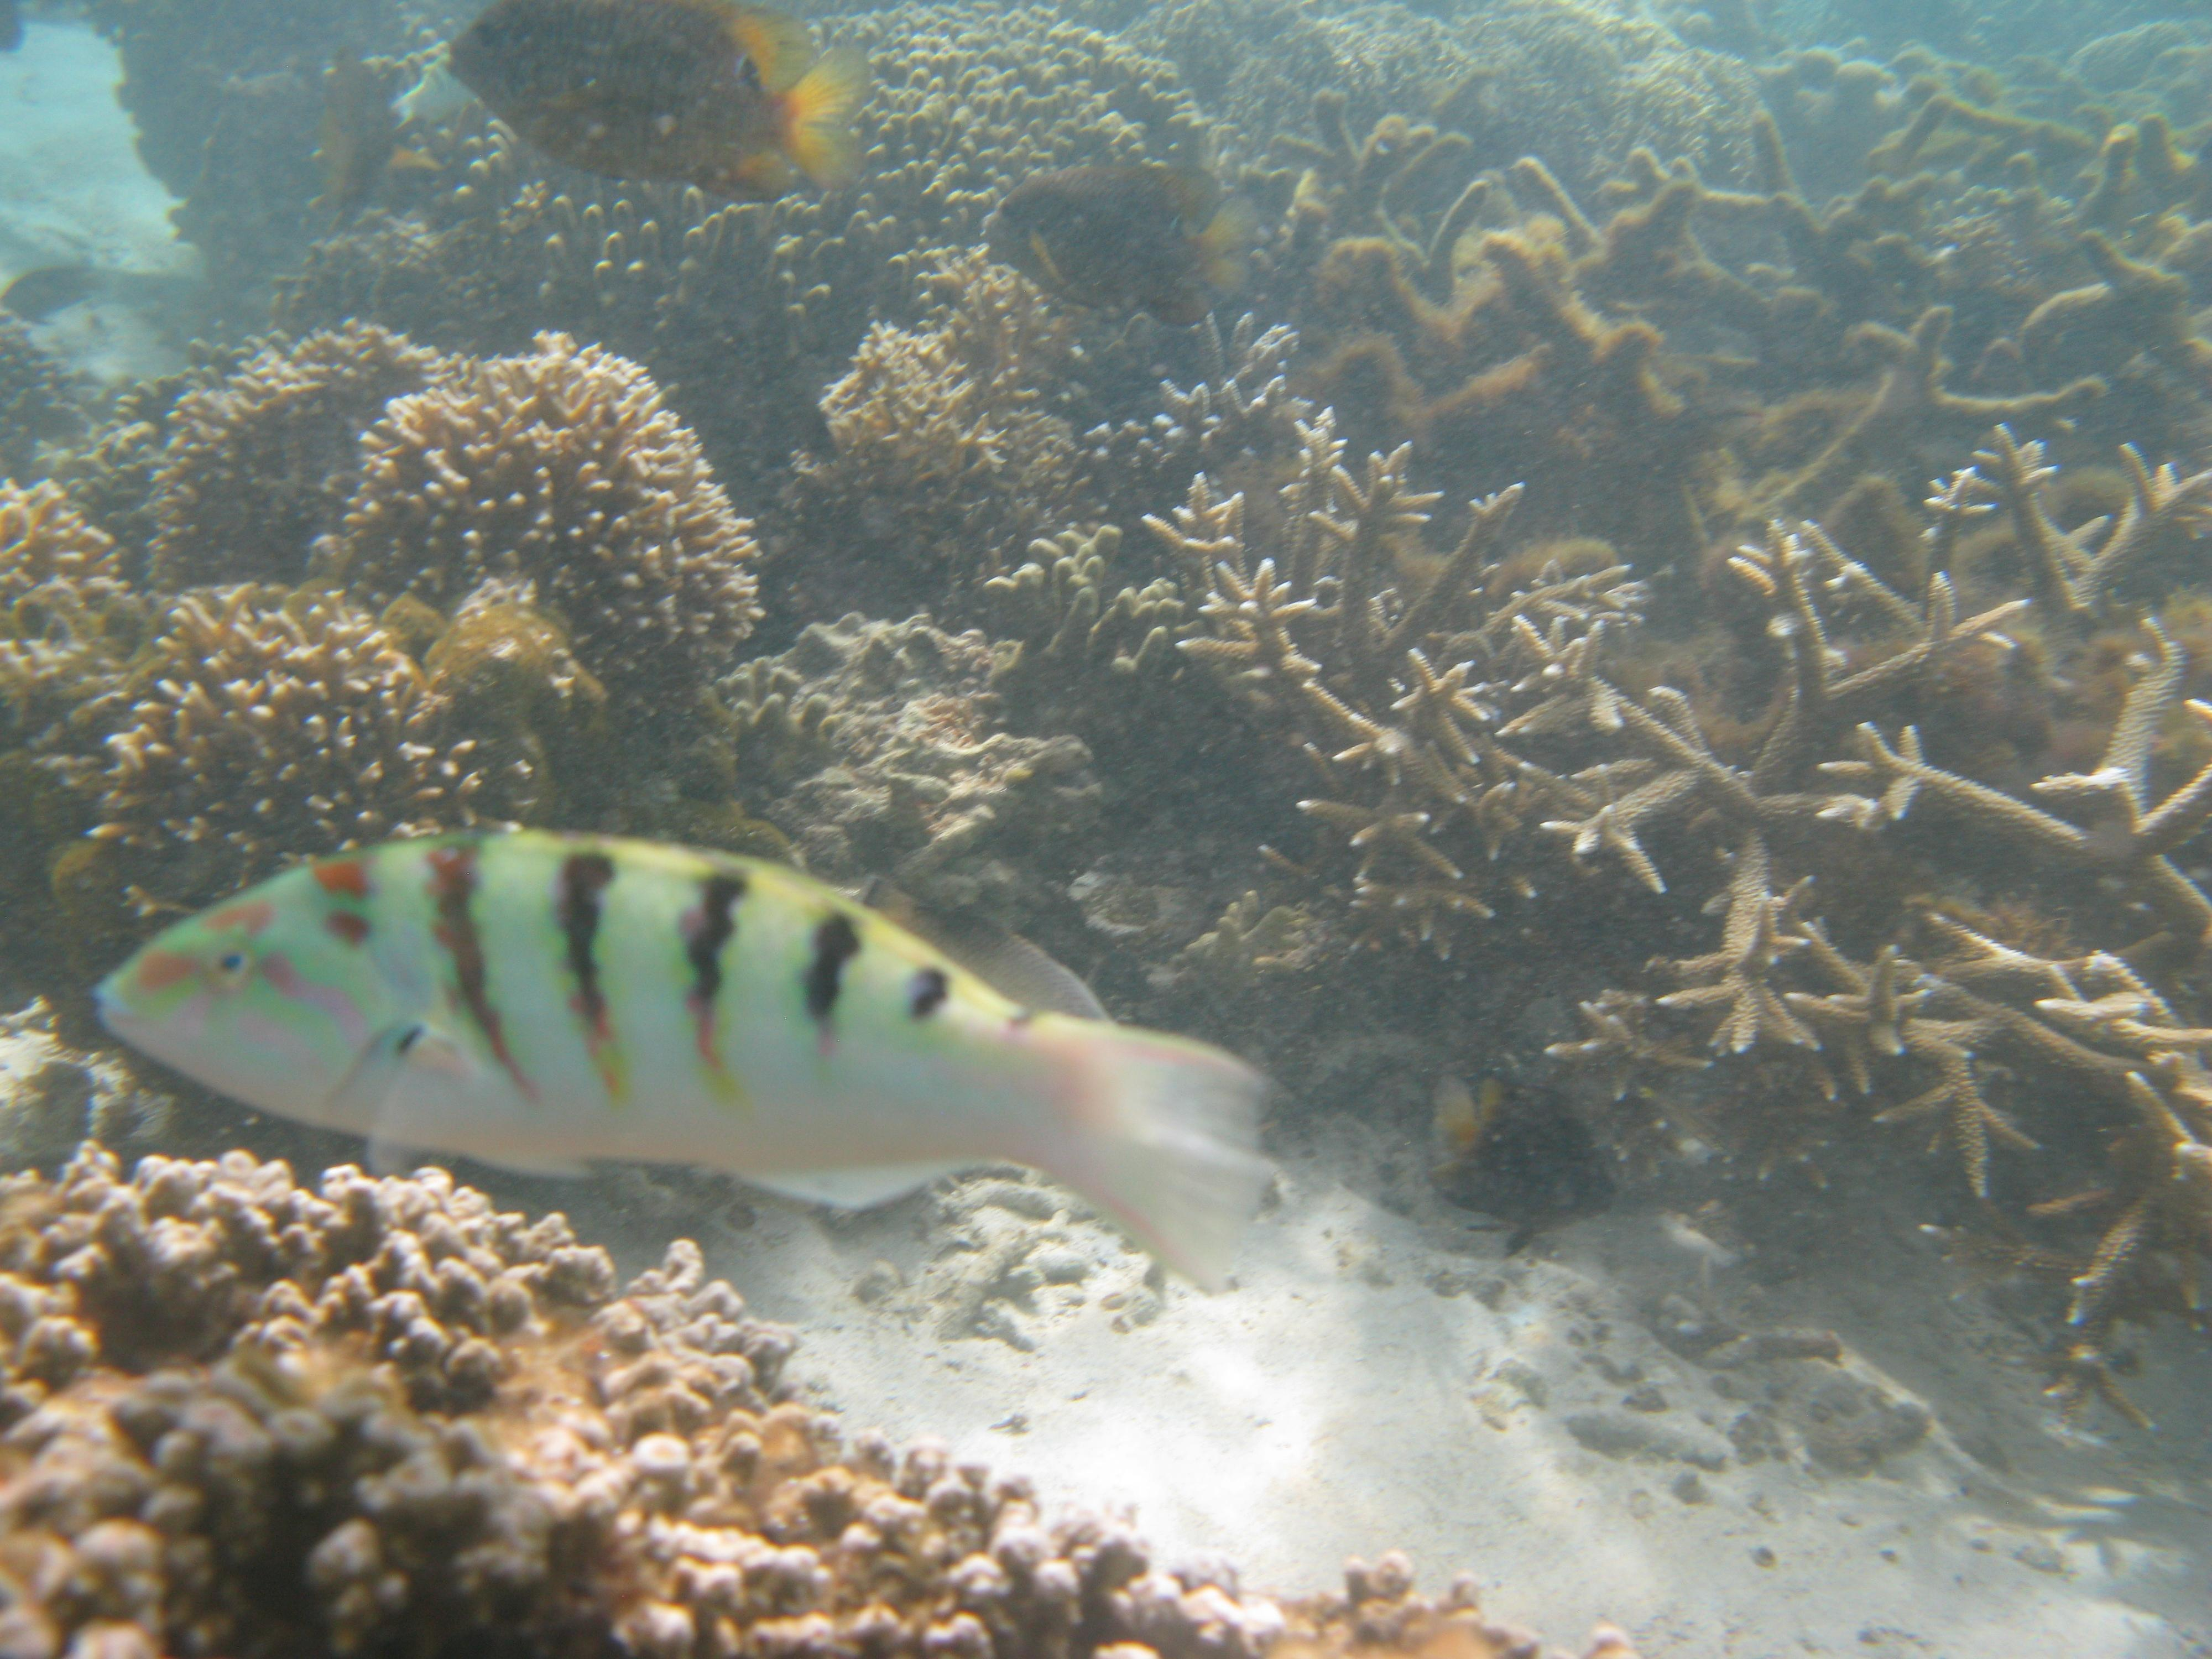Fish: (84, 826, 1289, 1307)
